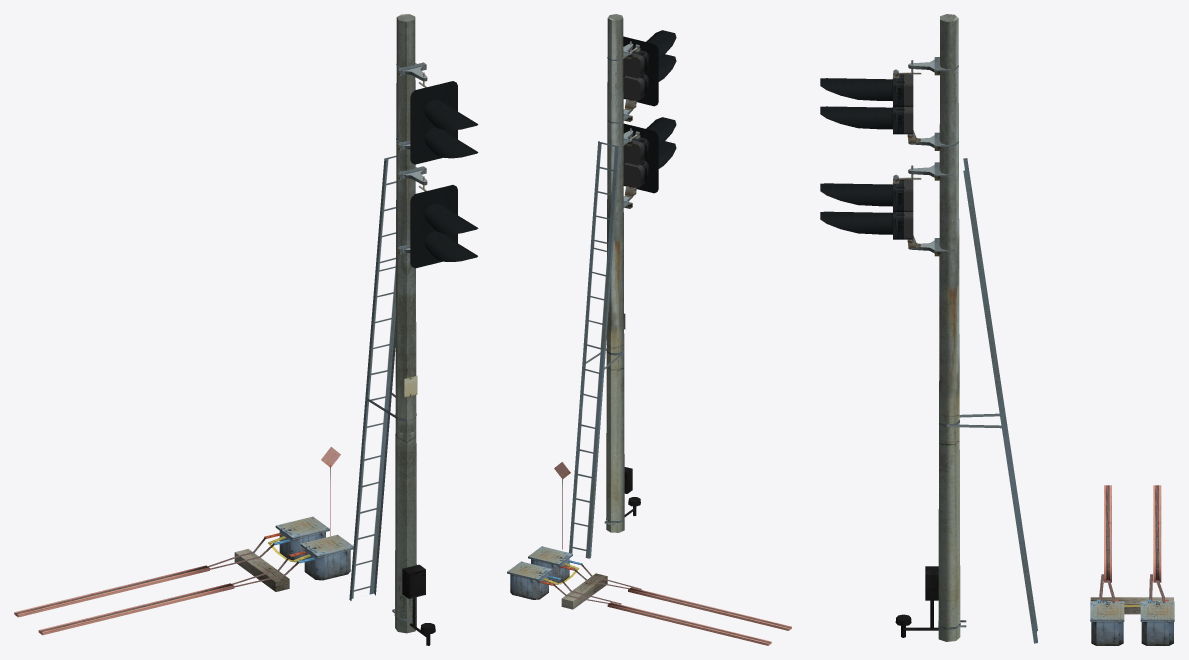
Rendered from signal_exit.gltf.
The picture shows the model from 3 angles, left to right: view 1: azimuth 30°, elevation 25°; view 2: azimuth 150°, elevation 25°; view 3: azimuth 270°, elevation 25°; orthographic projection. The views are drawn at different scales.
Size of the model in its own units: 4.08 by 7.66 by 3.97.
Materials: 1 (1 with a texture image).
